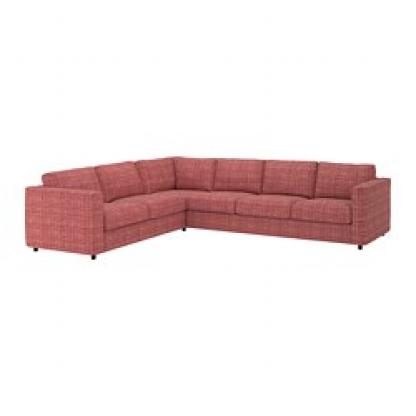Sofa: (17, 129, 394, 280)
